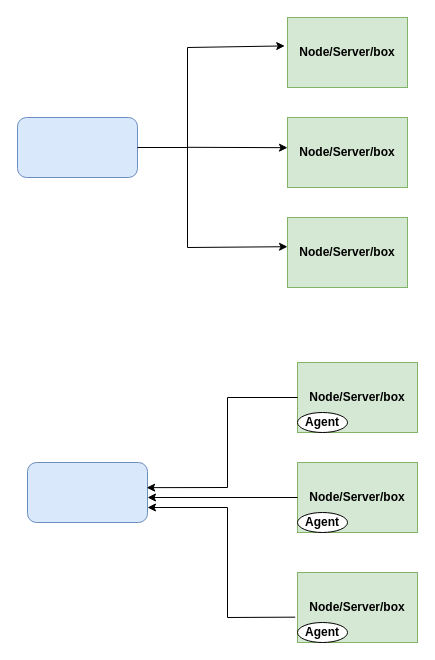
The diagram is 435 pixels wide and 660 high, and some of its shapes have lost their labels. The centre of each missing label's shape, as x and y in pixels:
Ansible Server: (x=77, y=147)
CM Server: (x=87, y=492)
